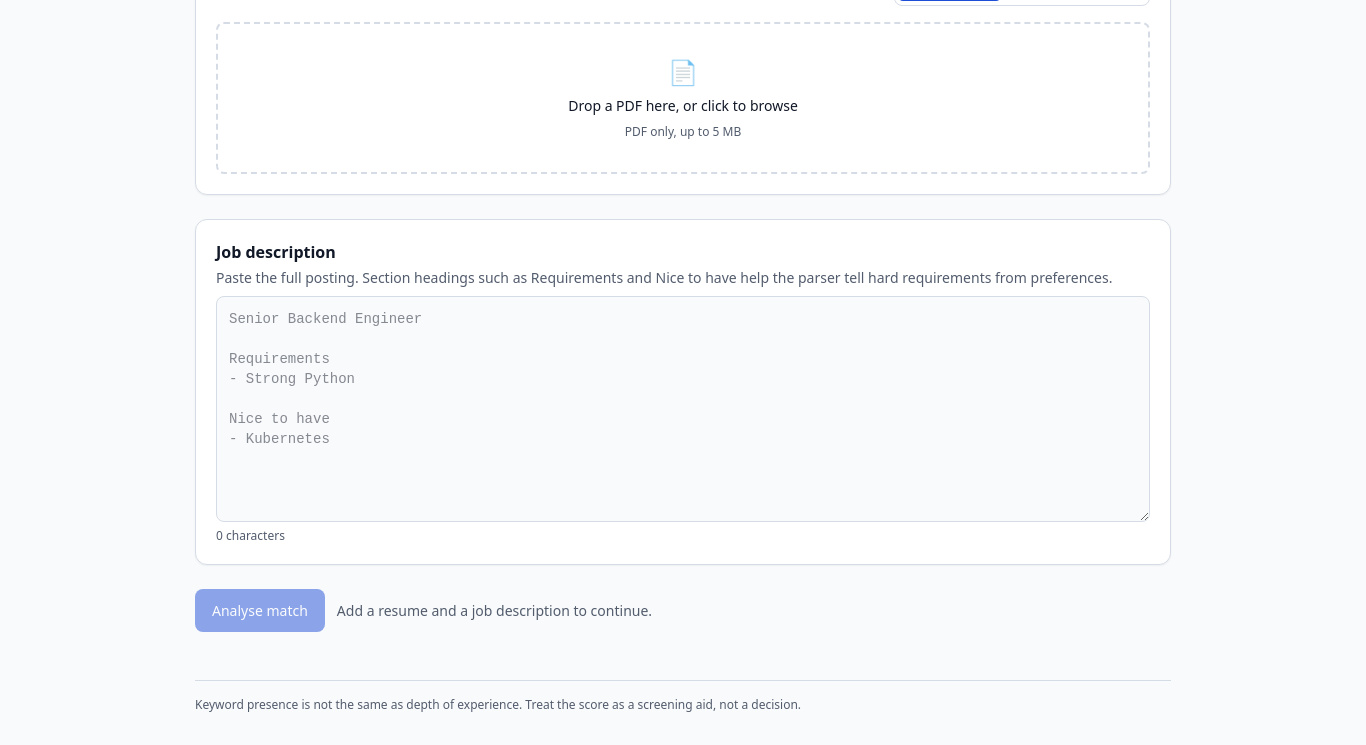
Test: input view › shows a character count for the job description
(page scrolled)
Type "Python" into the text box labelled "Paste the full posting" at (683, 409), box [216,296,1150,522]
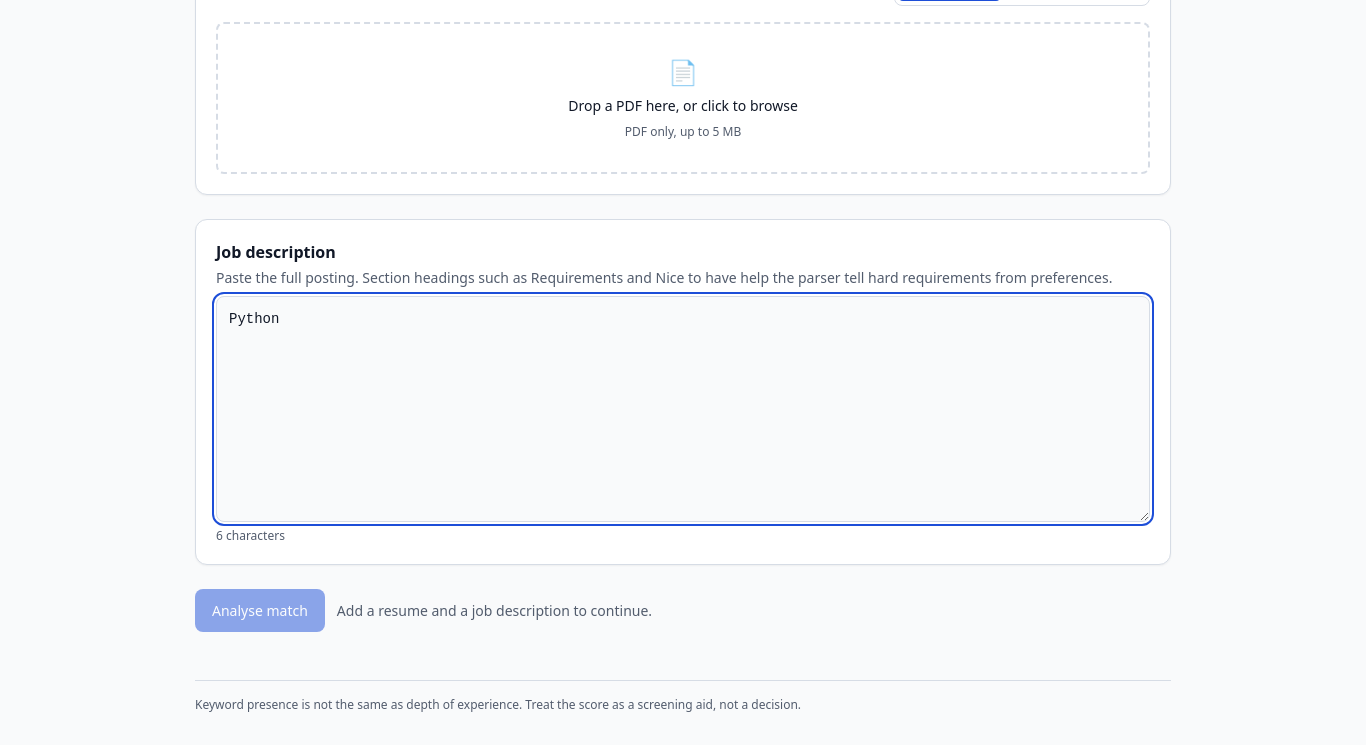
Result: the text "6 characters" is shown at [216,527,285,544]
